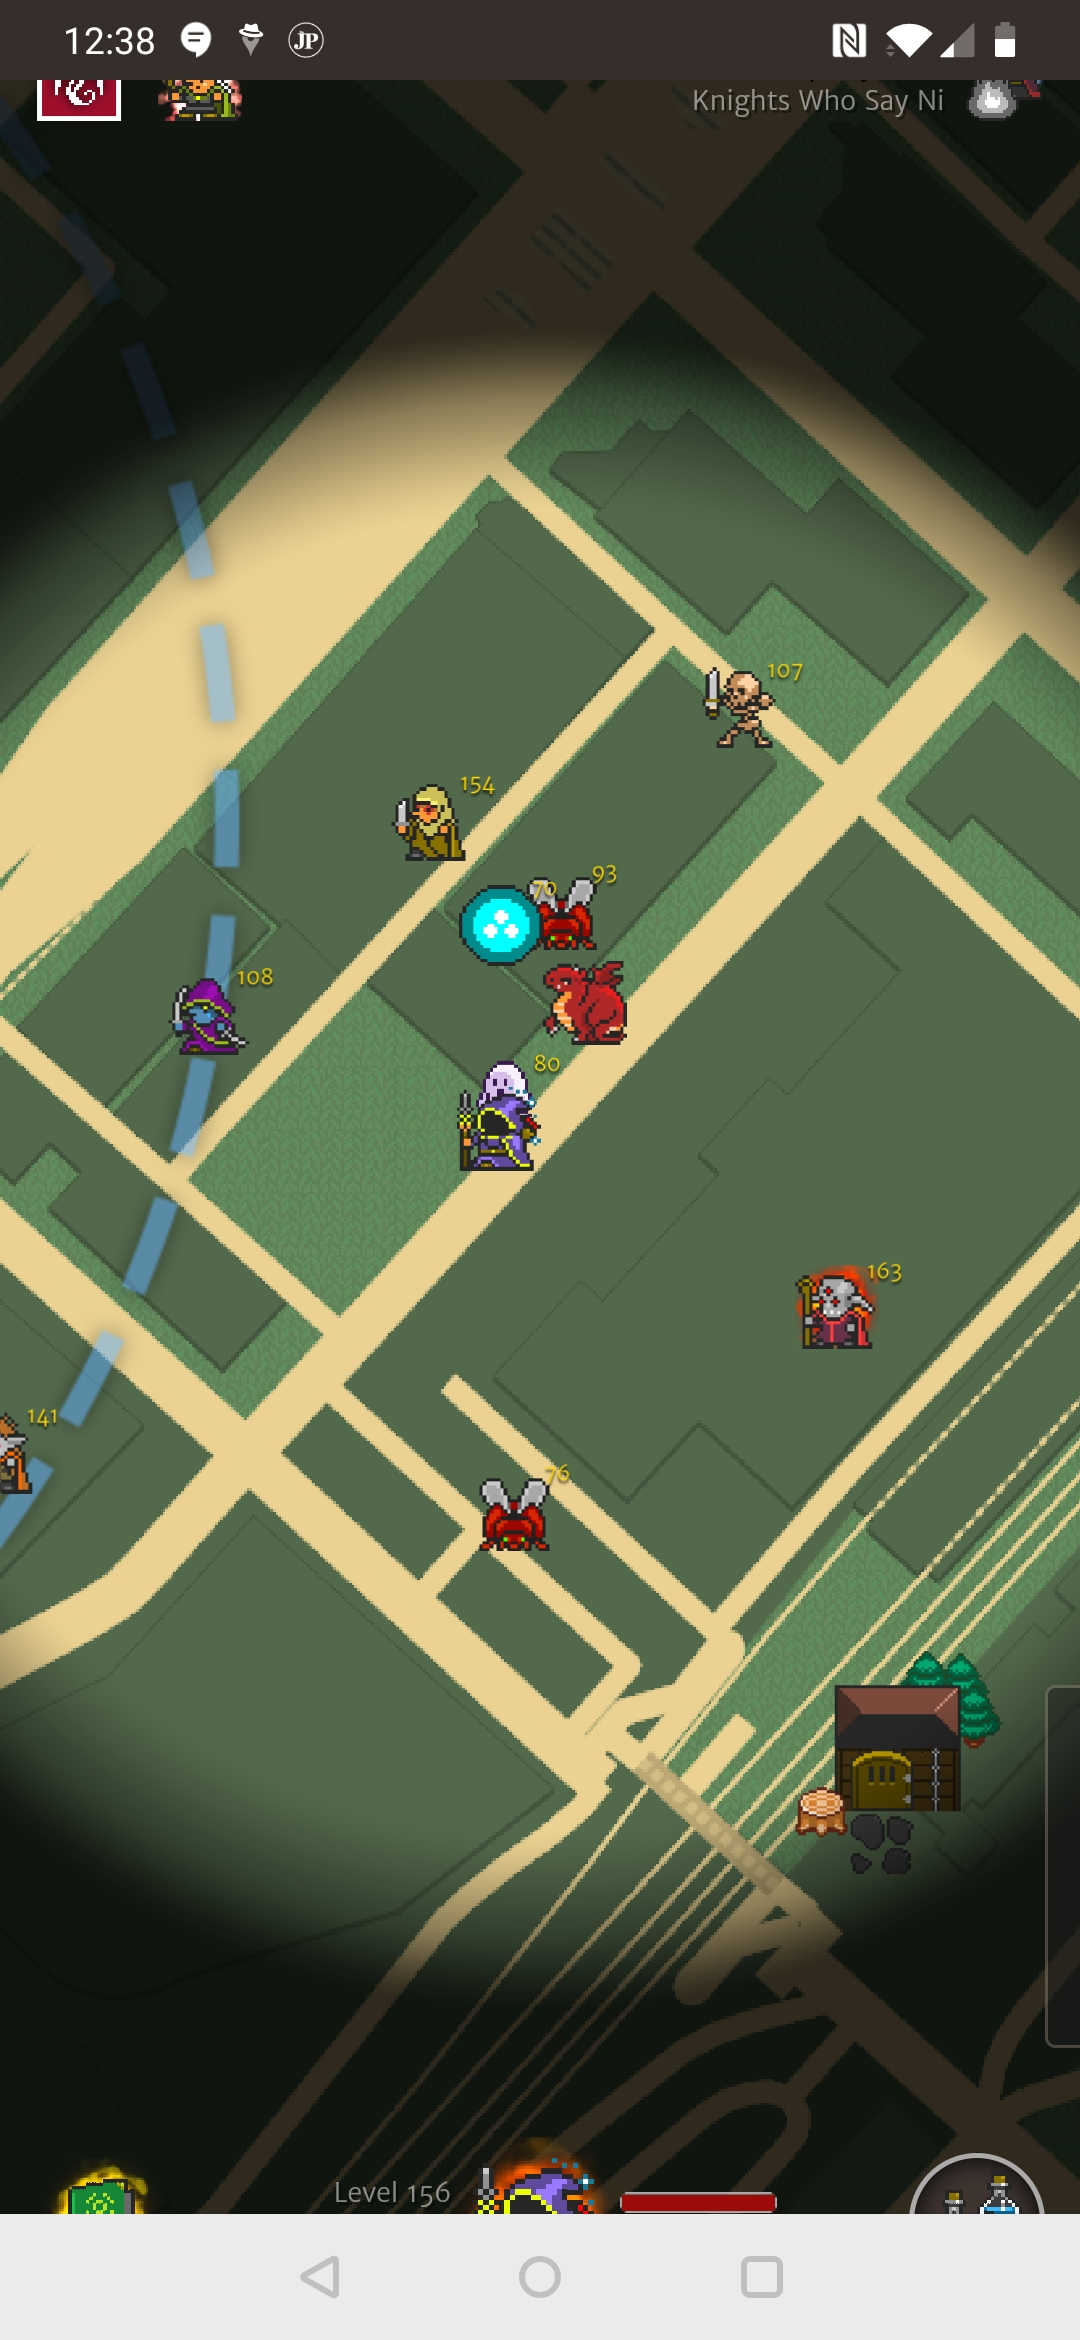monster: (384, 761, 512, 868), (695, 654, 812, 765), (784, 1258, 912, 1358), (461, 1454, 578, 1562), (163, 960, 278, 1060), (456, 879, 558, 972), (532, 855, 622, 953)
player: (459, 1099, 534, 1172)
